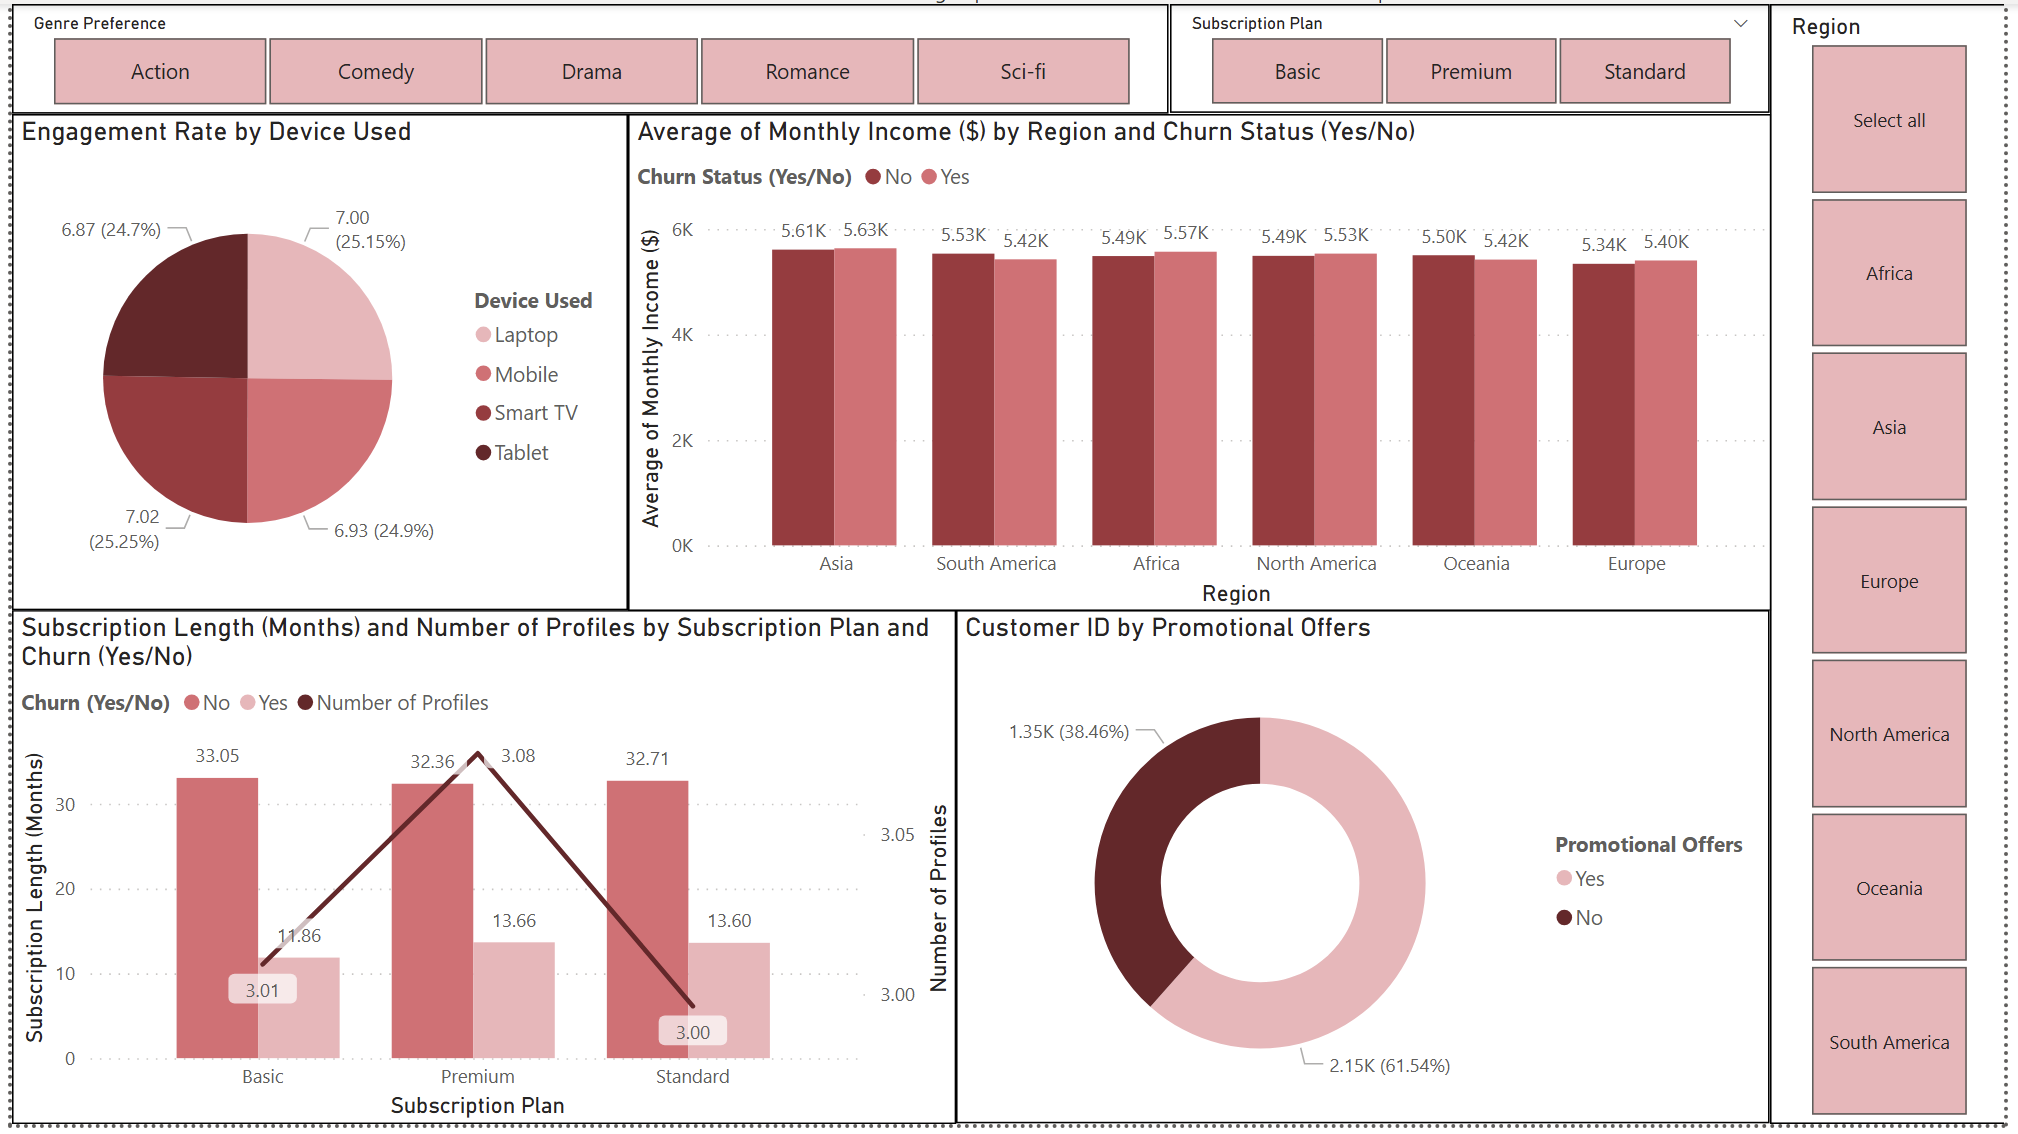

This screenshot's page, from the dashboard's own definition file:
{"tool":"powerbi","page":{"name":"Page 2","canvas":[1280,720],"ordinal":1},"visuals":[{"type":"slicer","fields":{"Values":["Netflix Engagement Dataset.Region"]},"box":[1129.8,0,151.6,720],"z":1},{"type":"slicer","fields":{"Values":["Netflix Engagement Dataset.Subscription Plan"]},"box":[743.8,0,385.3,70.2],"z":2},{"type":"clusteredColumnChart","fields":{"Category":["Netflix Engagement Dataset.Region"],"Y":["Avg(Netflix Engagement Dataset.Monthly Income ($))"],"Series":["Netflix Engagement Dataset.Churn Status (Yes/No)"]},"box":[395.8,70.2,734.8,319.6],"z":3},{"type":"lineClusteredColumnComboChart","fields":{"Category":["Netflix Engagement Dataset.Subscription Plan"],"Series":["Netflix Engagement Dataset.Churn Status (Yes/No)"],"Y":["Avg(Netflix Engagement Dataset.Subscription Length (Months))"],"Y2":["Avg(Netflix Engagement Dataset.Number of Profiles Created)"]},"box":[0,389.6,606.9,330.4],"z":4},{"type":"slicer","fields":{"Values":["Netflix Engagement Dataset.Genre Preference"]},"box":[0,0,743.5,70.3],"z":5},{"type":"donutChart","fields":{"Y":["CountNonNull(Netflix Engagement Dataset.Customer ID)"],"Category":["Netflix Engagement Dataset.Promotional Offers Used"]},"box":[607,390,523,330],"z":6},{"type":"pieChart","title":"Engagement Rate  by Device Used ","fields":{"Y":["Avg(Netflix Engagement Dataset.Engagement Rate (1-10))"],"Series":["Netflix Engagement Dataset.Device Used Most Often"]},"box":[0,70.7,396,318.9],"z":7}]}

Visuals, with their boxes in screenshot pixels (x1, y1, x2, y2), scaled from the page's 1280x720 canvas onto the 2018x1134 screenshot:
slicer - Netflix Engagement Dataset.Region: (1781, 0, 2017, 1133)
slicer - Netflix Engagement Dataset.Subscription Plan: (1173, 0, 1780, 111)
clusteredColumnChart - Netflix Engagement Dataset.Region x Avg(Netflix Engagement Dataset.Monthly Income ($)): (624, 111, 1782, 614)
lineClusteredColumnComboChart - Netflix Engagement Dataset.Subscription Plan x Netflix Engagement Dataset.Churn Status (Yes/No): (0, 614, 957, 1133)
slicer - Netflix Engagement Dataset.Genre Preference: (0, 0, 1172, 111)
donutChart - CountNonNull(Netflix Engagement Dataset.Customer ID) x Netflix Engagement Dataset.Promotional Offers Used: (957, 614, 1782, 1133)
"Engagement Rate  by Device Used " pieChart: (0, 111, 624, 614)
